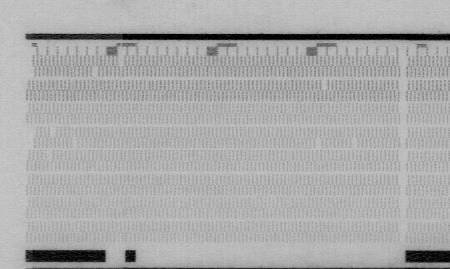Broken hole: (22, 122, 39, 153), (319, 79, 331, 92), (313, 135, 324, 149), (117, 54, 127, 69), (350, 137, 361, 150), (69, 136, 80, 148), (45, 150, 56, 162), (90, 65, 100, 78), (49, 127, 59, 140)
